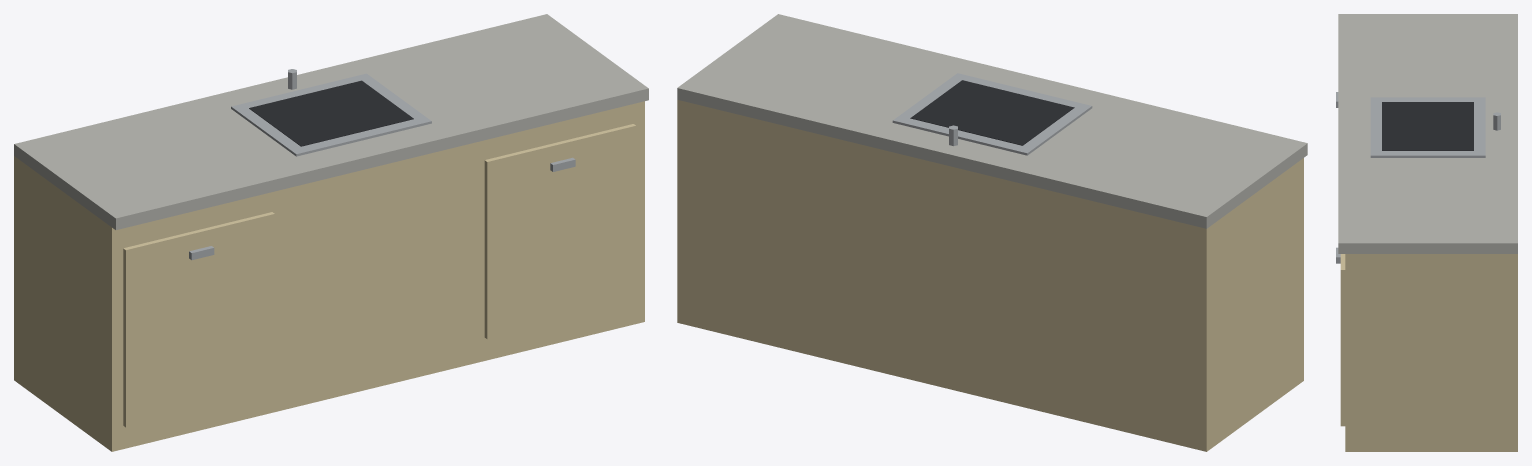
Rendered from SM_Prop_Sink_01.glb.
3 views of the same model, side by side, from view 1: azimuth 30°, elevation 25°; view 2: azimuth 150°, elevation 25°; view 3: azimuth 270°, elevation 25° (orthographic). The views are drawn at different scales.
Parts seen in each view (by area): view 1: SM_Prop_Sink_01; view 2: SM_Prop_Sink_01; view 3: SM_Prop_Sink_01.
Part boxes in pixels (bbox=[...]): SM_Prop_Sink_01: bbox=[14, 14, 648, 451]; SM_Prop_Sink_01: bbox=[677, 14, 1307, 451]; SM_Prop_Sink_01: bbox=[1336, 14, 1517, 451].
Size of the model in its own units: 2.36 by 1.07 by 0.79.
Materials: 1 (1 with a texture image).
